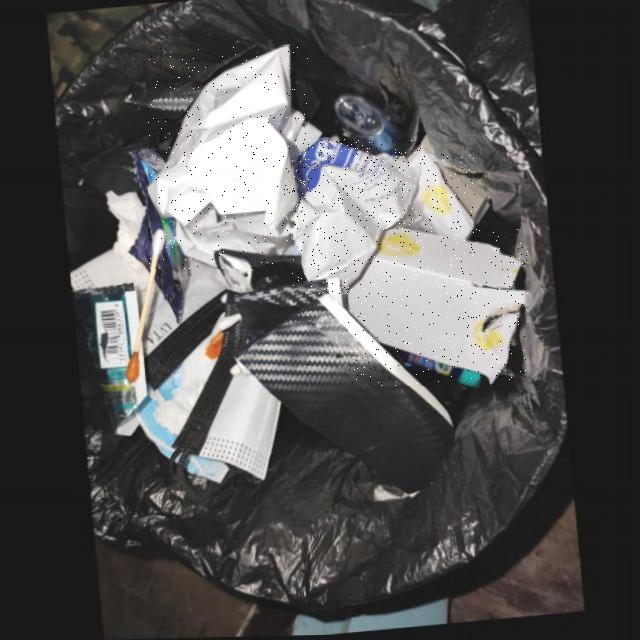paper: (149, 46, 308, 268), (349, 229, 528, 386), (411, 152, 476, 242)
plastic: (292, 139, 421, 294)
